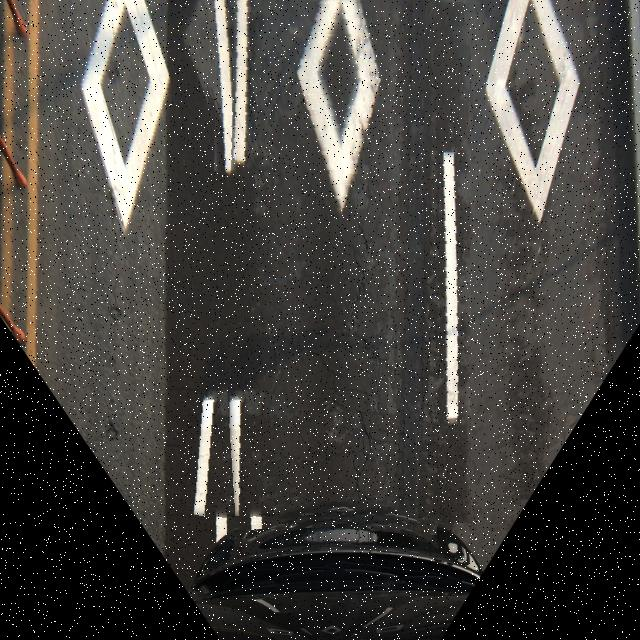diamond: (201, 0, 471, 530)
